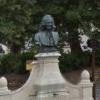Statue: (28, 8, 75, 57)
